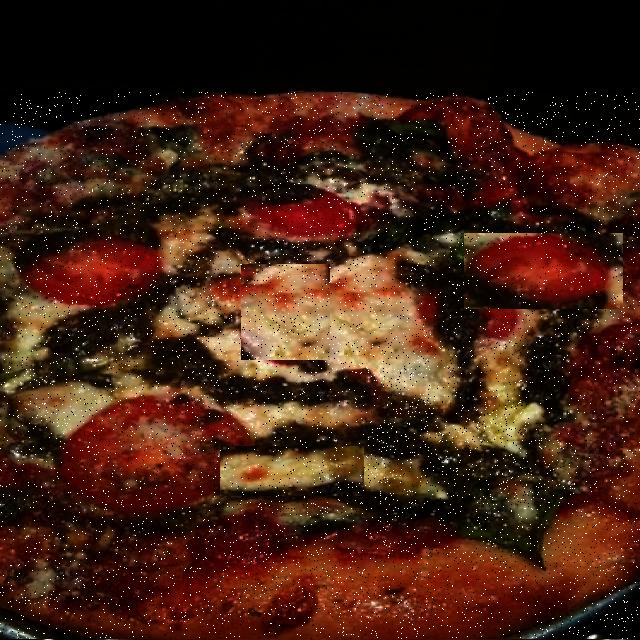Cheese: (241, 264, 330, 360), (220, 446, 364, 496), (527, 379, 625, 437)
Pizza: (0, 92, 640, 639)
Tomato: (382, 398, 573, 514), (464, 233, 623, 309), (268, 177, 406, 242), (122, 274, 222, 342)
